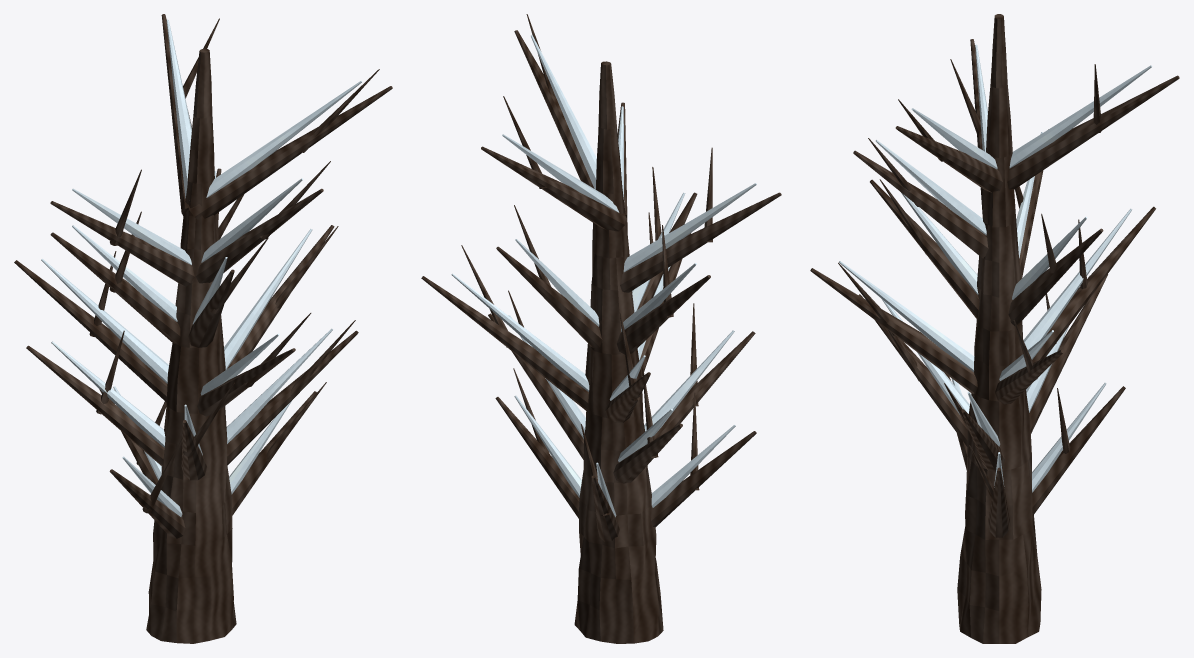
File: FirstRoom_AncientTree.fbx
The picture shows the model from 3 angles, left to right: view 1: azimuth 30°, elevation 25°; view 2: azimuth 150°, elevation 25°; view 3: azimuth 270°, elevation 25°; orthographic projection. The views are drawn at different scales.
Visible parts, largest first — view 1: WO_FirstRoom_AncientTree_LOD0; view 2: WO_FirstRoom_AncientTree_LOD0; view 3: WO_FirstRoom_AncientTree_LOD0.
Boxes of the visible parts, left/top/right/bottom form: WO_FirstRoom_AncientTree_LOD0: left=14, top=14, right=392, bottom=643; WO_FirstRoom_AncientTree_LOD0: left=421, top=14, right=781, bottom=643; WO_FirstRoom_AncientTree_LOD0: left=810, top=14, right=1179, bottom=643.
Size of what is drawn, in the model's own units: 3.56 by 6 by 3.27.
